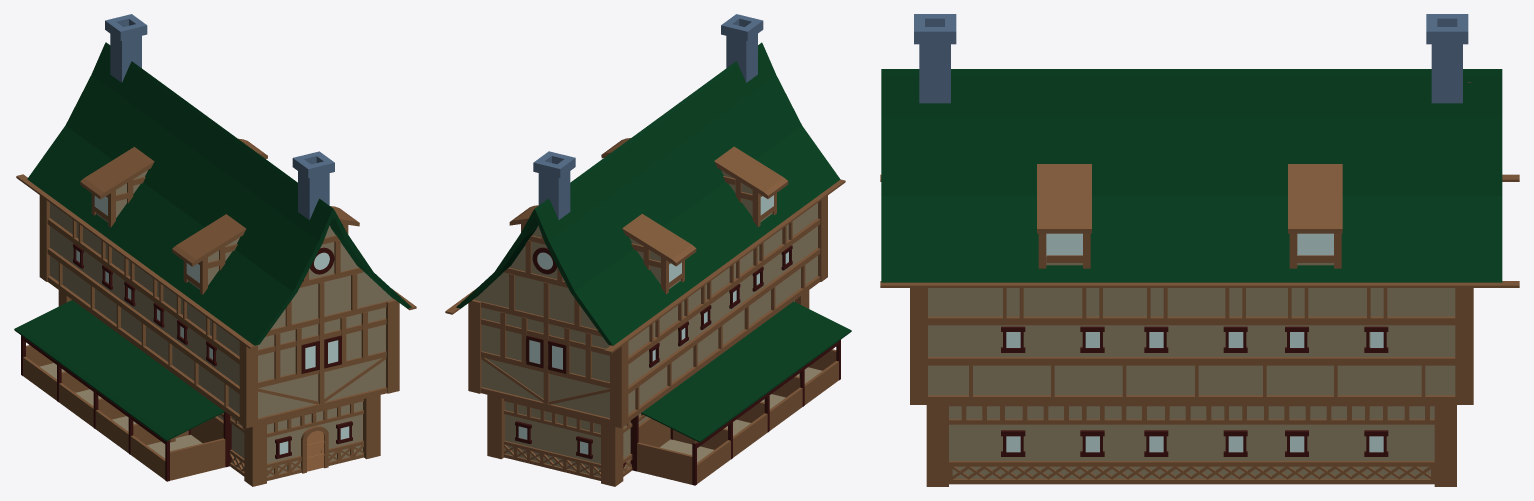
File: Building 2.fbx
3 views of the same model, side by side, from view 1: azimuth 30°, elevation 25°; view 2: azimuth 150°, elevation 25°; view 3: azimuth 270°, elevation 25° (orthographic). The views are drawn at different scales.
Visible parts, largest first — view 1: Main Building, Cube.029, Cube.032, Cube.028, Cube, Door; view 2: Main Building, Cube.029, Cube.032, Cube.028, Cube; view 3: Main Building, Cube.029, Cube.032, Cube.028, Cube.
Boxes of the visible parts, x1,y1,x2,y2 form: Main Building: (27,42,411,476); Cube.029: (14,174,416,486); Cube.032: (80,138,359,294); Cube.028: (105,14,334,219); Cube: (76,196,349,454); Door: (301,426,328,473); Main Building: (456,42,840,476); Cube.029: (445,179,851,486); Cube.032: (509,138,788,294); Cube.028: (533,14,763,219); Cube: (518,195,788,454); Main Building: (881,69,1502,478); Cube.029: (880,82,1519,486); Cube.032: (1037,164,1342,268); Cube.028: (914,14,1468,103); Cube: (1006,233,1383,452).
Bounding box in the file's own units: 4067 × 5666 × 7782.
